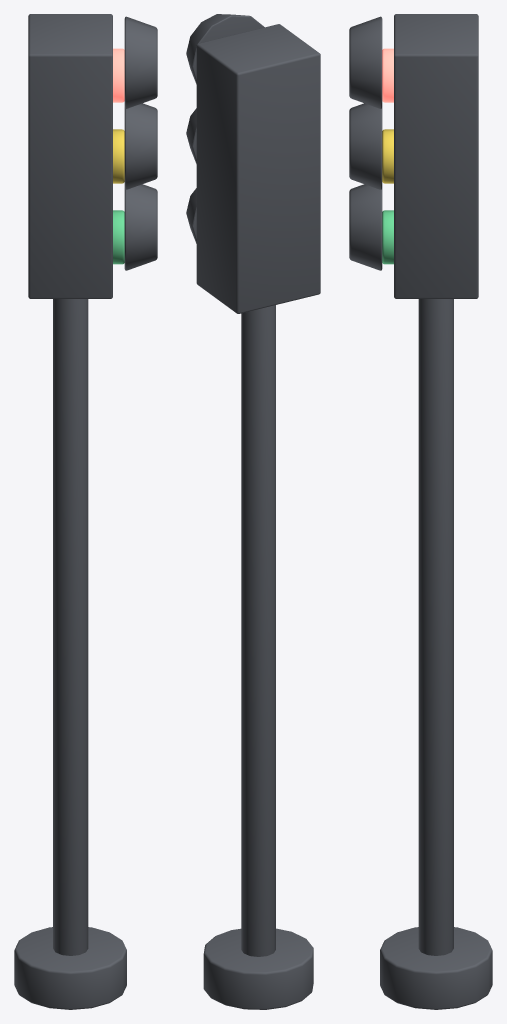
Rendered from th6_ampel.glb.
3 renders of one model, left to right at view 1: azimuth 90°, elevation 25°; view 2: azimuth 210°, elevation 25°; view 3: azimuth 270°, elevation 25°, orthographic.
Visible parts, largest first — view 1: Cube, Cylinder.001, Cylinder, Cone, Cone.001, Cone.002, Cylinder.003, Cylinder.002, Cylinder.004; view 2: Cube, Cylinder.001, Cylinder, Cone, Cone.001, Cone.002; view 3: Cube, Cylinder.001, Cylinder, Cone, Cone.001, Cone.002, Cylinder.003, Cylinder.002, Cylinder.004.
Part boxes in pixels (box(x1,y1,x2,y2)): Cube: box(28, 14, 112, 298); Cylinder.001: box(53, 299, 88, 955); Cylinder: box(14, 927, 126, 1009); Cone: box(124, 16, 157, 108); Cone.001: box(124, 103, 157, 189); Cone.002: box(124, 184, 157, 270); Cylinder.003: box(113, 129, 124, 183); Cylinder.002: box(113, 48, 124, 102); Cylinder.004: box(113, 210, 124, 264); Cube: box(196, 24, 320, 313); Cylinder.001: box(241, 305, 275, 956); Cylinder: box(203, 928, 313, 1009); Cone: box(186, 14, 264, 84); Cone.001: box(186, 108, 196, 163); Cone.002: box(186, 188, 196, 243); Cube: box(394, 14, 478, 298); Cylinder.001: box(418, 299, 453, 955); Cylinder: box(380, 927, 492, 1009); Cone: box(349, 16, 382, 108); Cone.001: box(349, 103, 382, 189); Cone.002: box(349, 184, 382, 270); Cylinder.003: box(382, 129, 393, 183); Cylinder.002: box(382, 48, 393, 102); Cylinder.004: box(382, 210, 393, 264).
Bounding box in the file's own units: 0.48 × 4.54 × 0.61.
